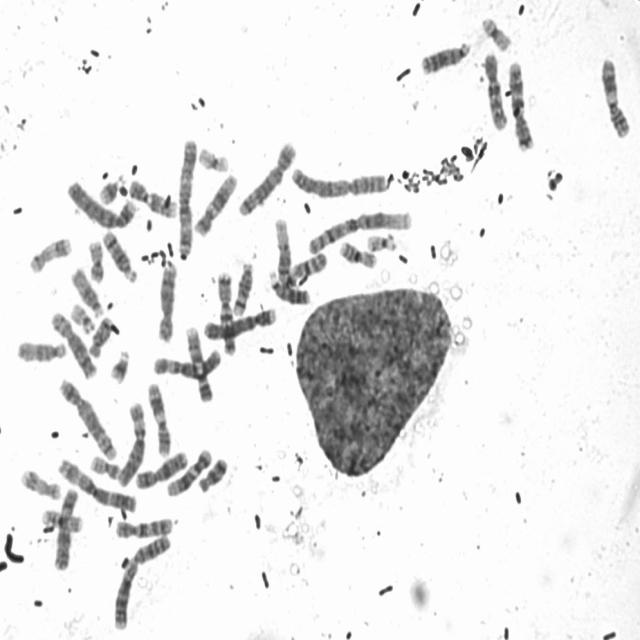A1: (304, 204, 414, 255), (273, 212, 330, 280)
A2: (110, 530, 174, 632), (287, 160, 392, 200)
A3: (54, 453, 138, 514), (174, 133, 200, 259)
B4: (64, 174, 140, 230), (201, 303, 277, 341)
B5: (55, 373, 118, 462), (236, 137, 298, 218)
C10: (480, 47, 510, 132), (113, 512, 175, 540)
C11: (598, 52, 632, 140), (145, 377, 172, 458)
C12: (191, 168, 239, 238), (164, 443, 214, 498)
C6: (115, 398, 148, 488), (150, 344, 222, 379)
C7: (506, 56, 537, 152), (214, 265, 238, 357)
C8: (48, 306, 100, 381), (154, 258, 180, 344)
C9: (182, 322, 215, 404), (125, 174, 179, 219)
D13: (418, 35, 472, 76), (266, 266, 312, 306)
D14: (99, 226, 140, 284), (230, 257, 255, 317)
D15: (68, 263, 105, 318), (14, 334, 69, 364)
E16: (336, 235, 379, 269), (38, 504, 84, 534)
E17: (26, 231, 73, 275), (17, 463, 63, 501)
E18: (196, 452, 230, 494), (85, 312, 114, 359)
F19: (478, 12, 513, 52), (195, 142, 231, 174)
F20: (87, 451, 122, 480), (85, 236, 106, 284)
G21: (96, 170, 127, 207), (106, 343, 132, 385)
G22: (67, 298, 97, 334), (363, 228, 399, 253)
X: (50, 482, 80, 572), (133, 446, 190, 490)
